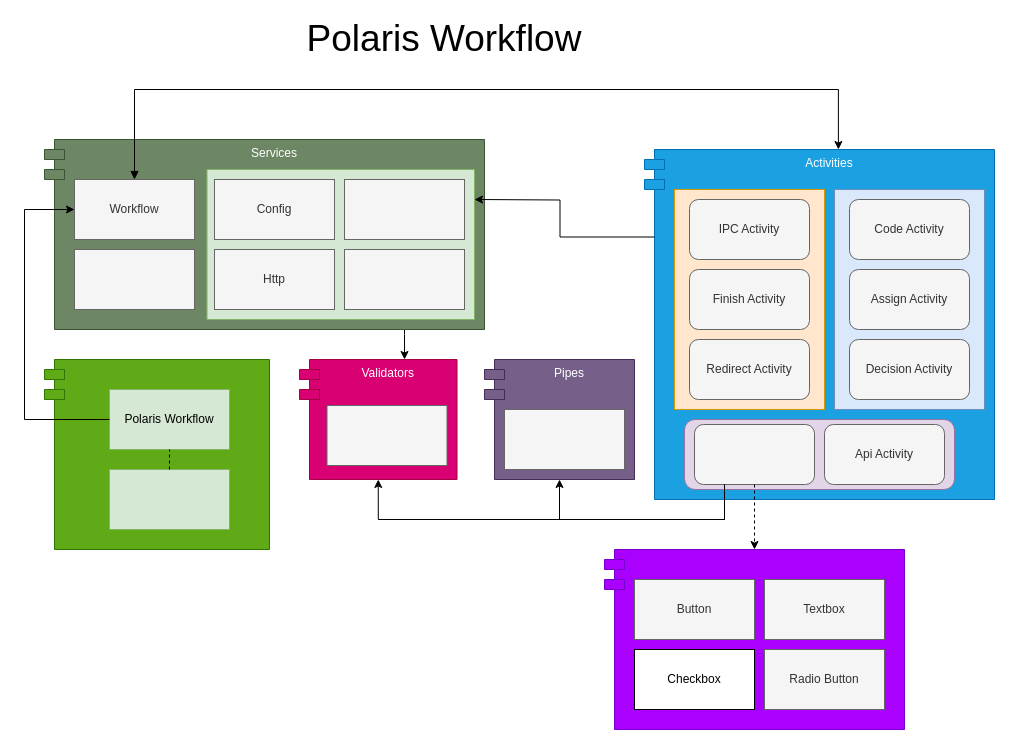
The diagram is 1012 pixels wide and 747 high, and some of its shapes have lost their labels. The box of each missing label's shape, as (x1, y1, x2, y2) in pixels:
Analytics: (74, 248, 194, 310)
Core: (44, 358, 270, 550)
Currency Formater: (504, 408, 624, 470)
Model: (344, 178, 464, 240)
Page Activity: (694, 424, 814, 484)
Polaris Analytics: (108, 468, 230, 530)
Required: (326, 404, 447, 466)
Validator: (344, 248, 464, 310)
Web Components: (604, 548, 904, 730)
